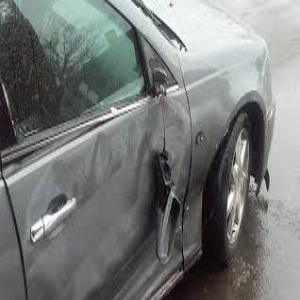bonnet: (138, 96, 231, 155)
head_lights: (149, 152, 222, 192)
